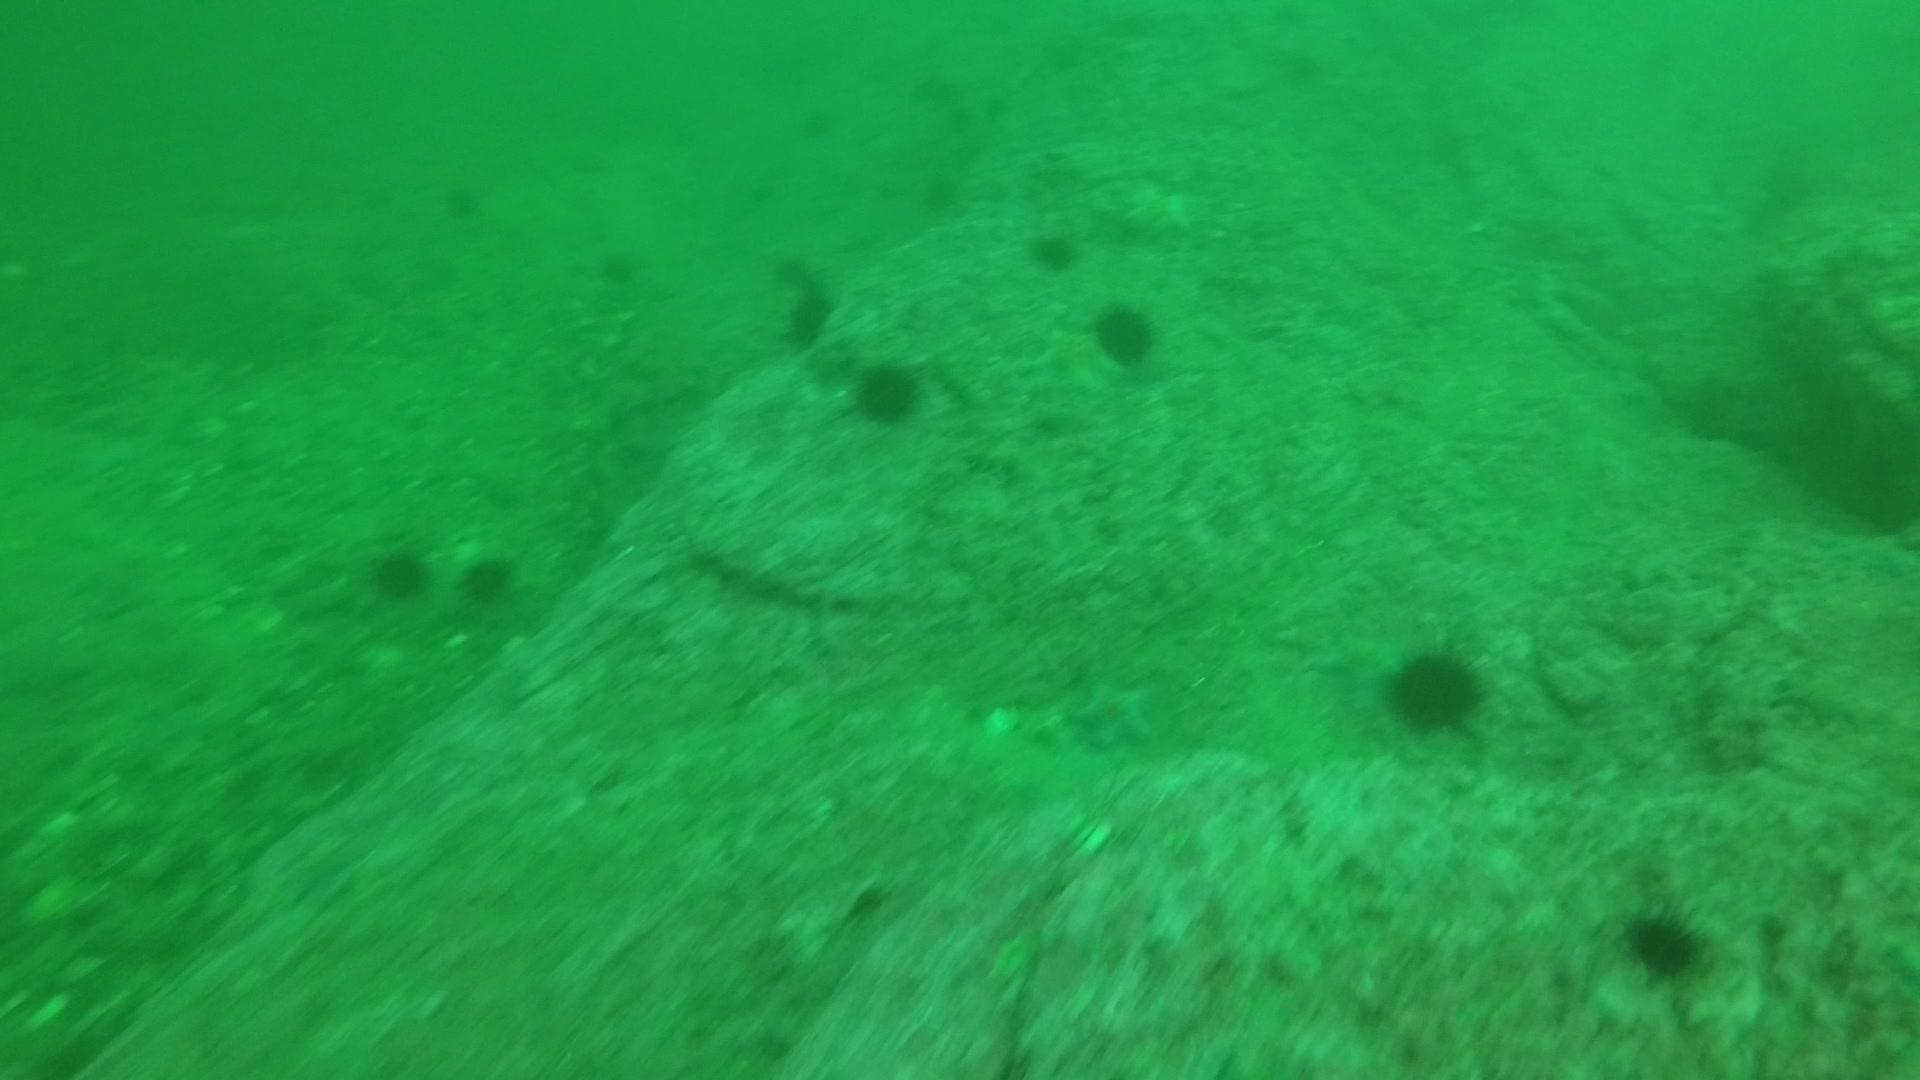echinus: (1379, 641, 1490, 737), (1618, 901, 1712, 984), (848, 355, 927, 429), (1088, 298, 1163, 371), (364, 539, 434, 603), (456, 547, 522, 609), (1023, 223, 1083, 276), (913, 181, 961, 222), (775, 316, 820, 353), (791, 287, 835, 324), (771, 253, 815, 290), (599, 252, 633, 284), (444, 189, 479, 219), (798, 113, 832, 144)
starfish: (1064, 666, 1166, 753), (1025, 319, 1122, 394), (1117, 171, 1203, 243)
